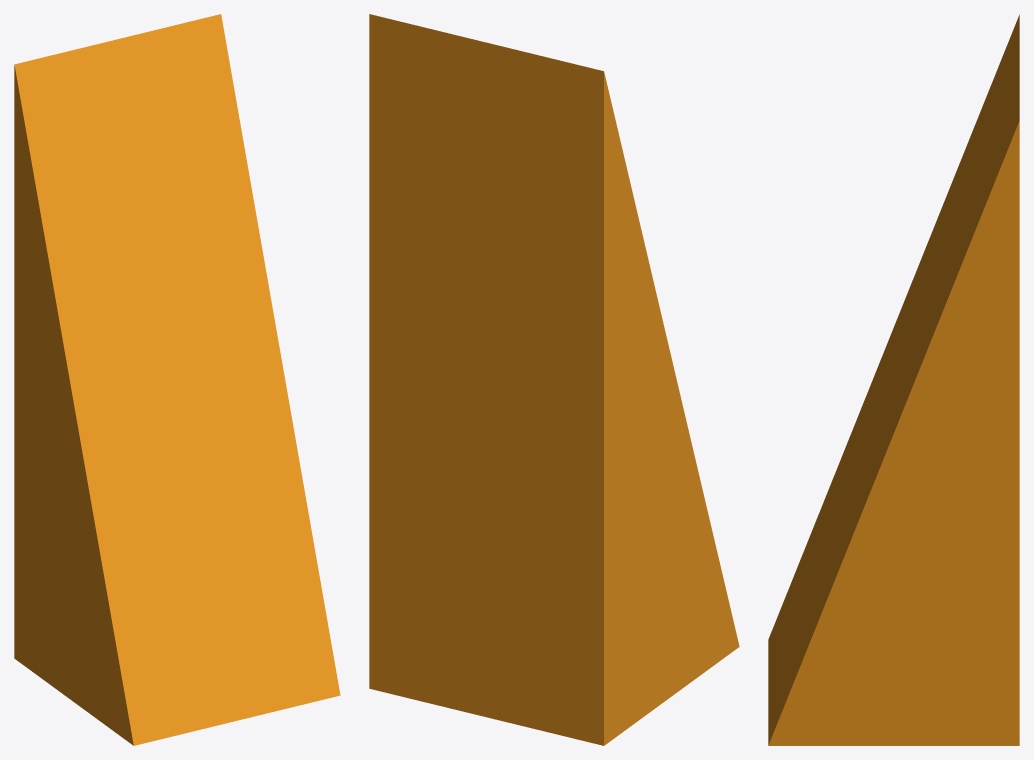
File: SM_Buildings_Ramp_70_1x1_01.fbx
The picture shows the model from 3 angles, left to right: view 1: azimuth 30°, elevation 25°; view 2: azimuth 150°, elevation 25°; view 3: azimuth 270°, elevation 25°; orthographic projection. The views are drawn at different scales.
Visible parts, largest first — view 1: SM_Buildings_Ramp_70_1x1_01; view 2: SM_Buildings_Ramp_70_1x1_01; view 3: SM_Buildings_Ramp_70_1x1_01.
Boxes of the visible parts, x1,y1,x2,y2 form: SM_Buildings_Ramp_70_1x1_01: [14, 14, 340, 745]; SM_Buildings_Ramp_70_1x1_01: [369, 14, 739, 745]; SM_Buildings_Ramp_70_1x1_01: [768, 14, 1019, 745].
Size of the model in its own units: 100 by 275 by 100.
